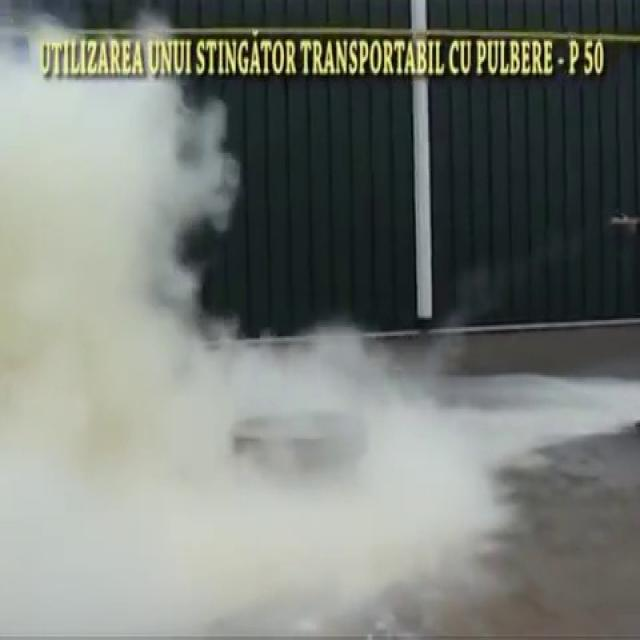Smoke: (0, 0, 524, 638)
